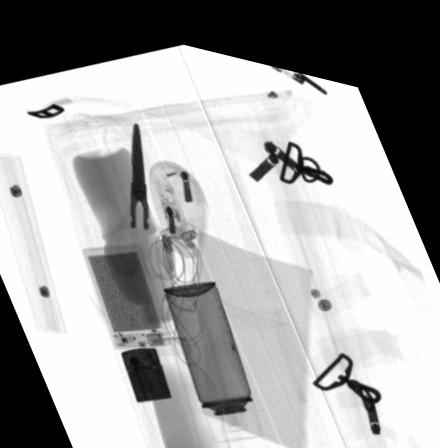Lighter: (117, 338, 173, 395)
Powerbank: (82, 234, 174, 344)
Scissors: (104, 115, 177, 283)
Sprayer: (164, 269, 264, 433)
